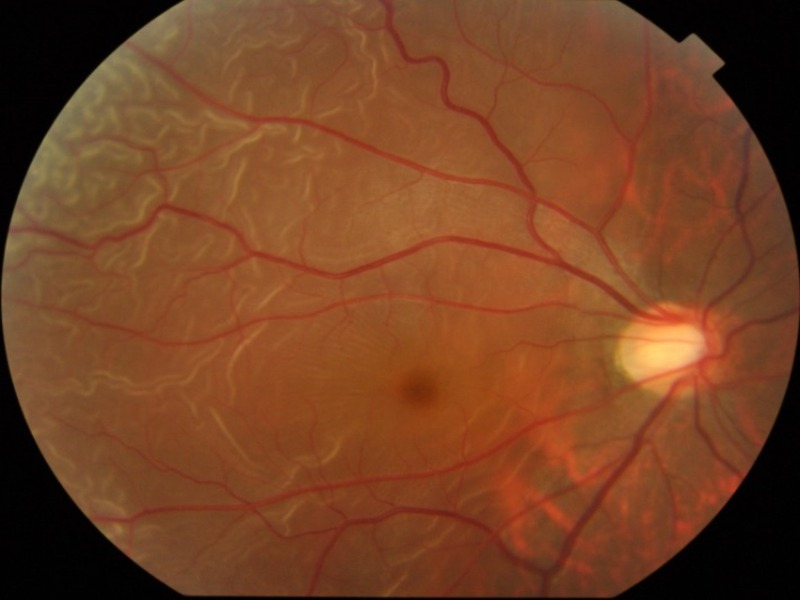Optic Cup: (624, 323, 701, 367)
Optic Disc: (612, 302, 723, 398)
